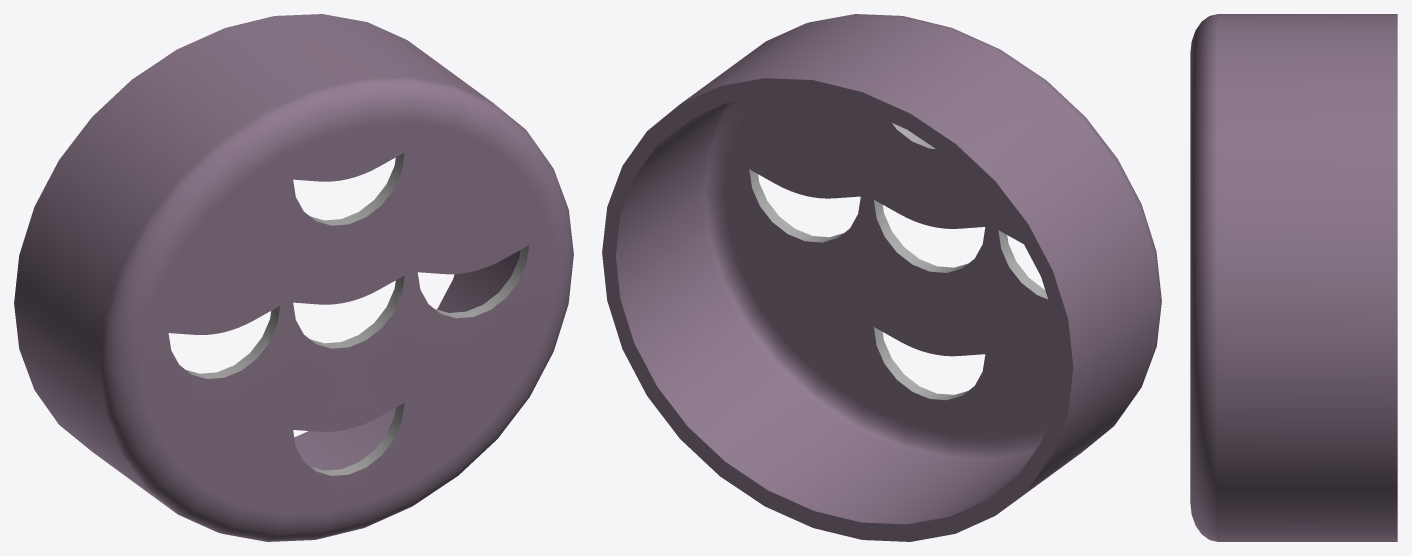
File: pig_moon.fbx
The picture shows the model from 3 angles, left to right: view 1: azimuth 30°, elevation 25°; view 2: azimuth 150°, elevation 25°; view 3: azimuth 270°, elevation 25°; orthographic projection. The views are drawn at different scales.
Visible parts, largest first — view 1: polySurface48; view 2: polySurface48; view 3: polySurface48.
Part boxes in pixels (x1,y1,x2,y2): polySurface48: (14,14,573,541); polySurface48: (602,14,1161,541); polySurface48: (1190,14,1397,541).
Bounding box in the file's own units: 8.15 × 7.4 × 2.97.
